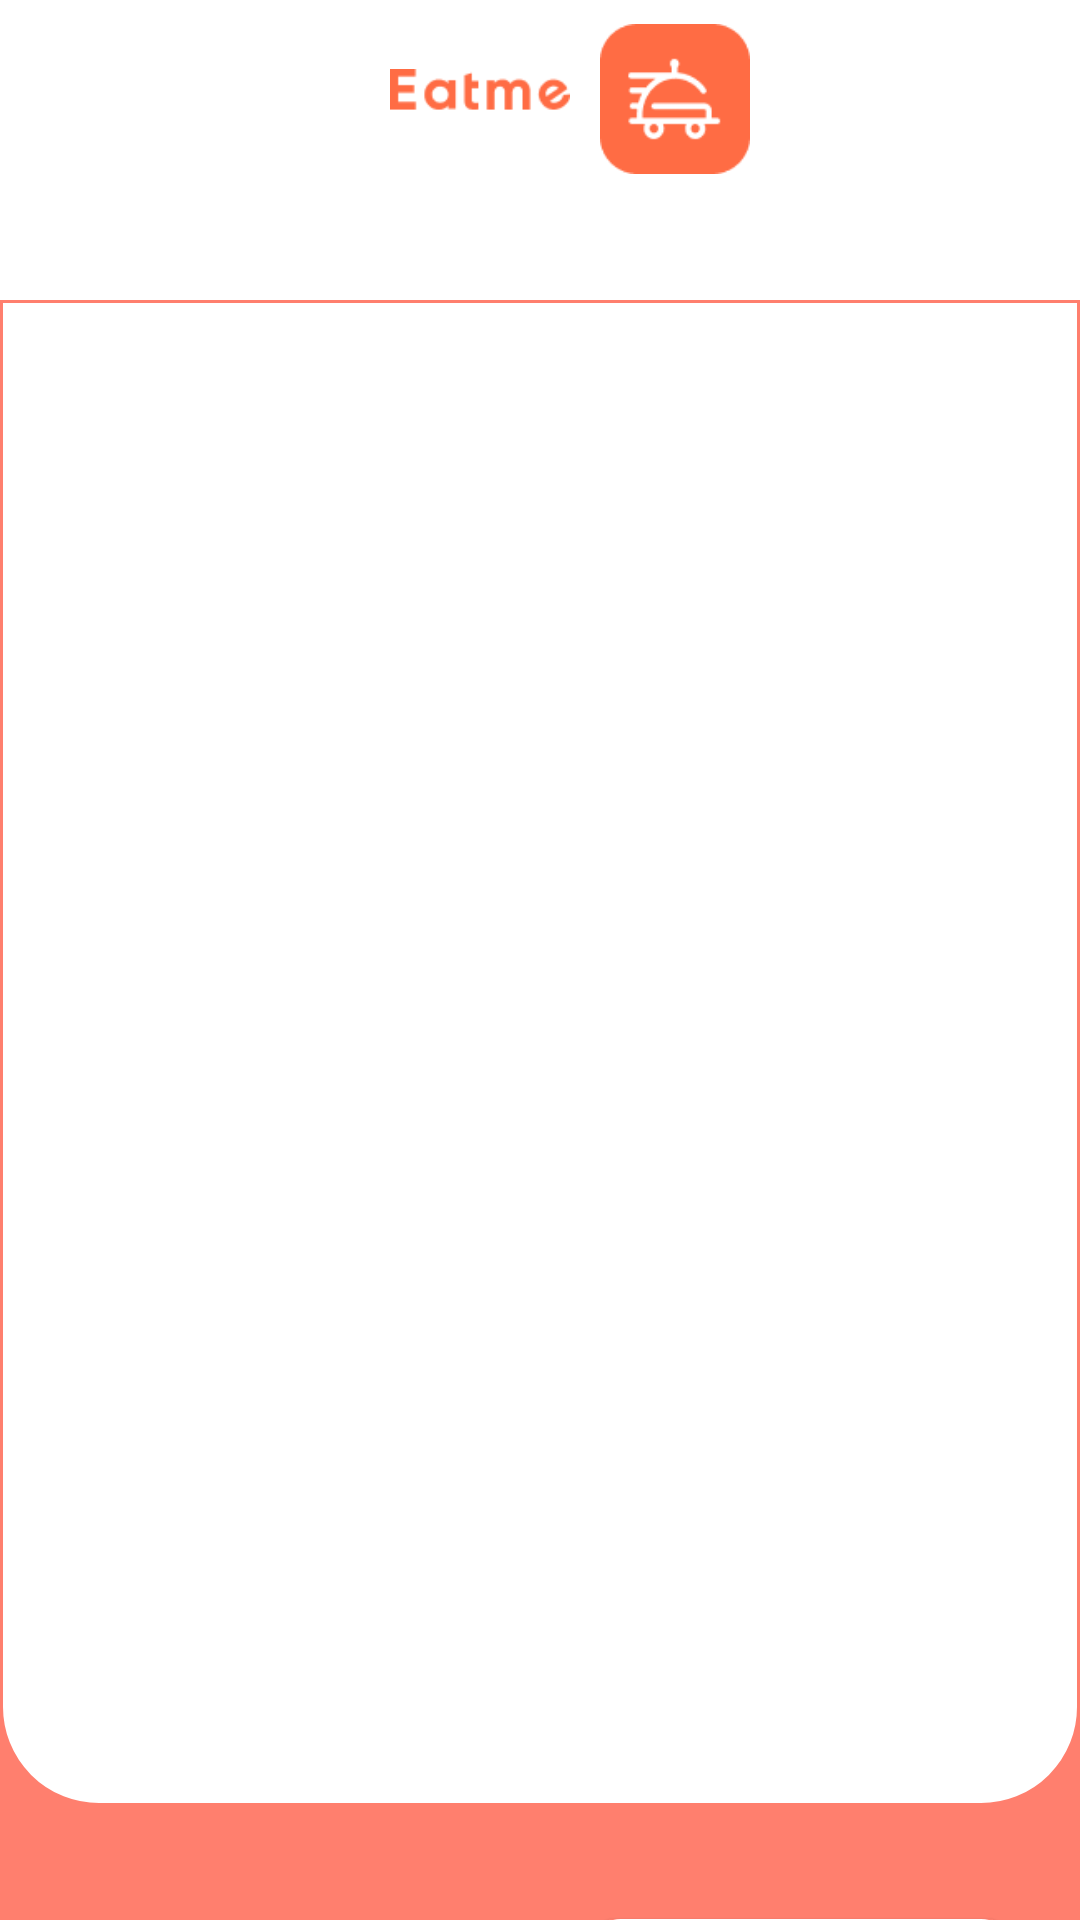

Locate icon controls on the screen. Image size 1080w x 1920h, boxes as (x1, y1, x2, y2).
splachicon: (600, 24, 750, 174)
